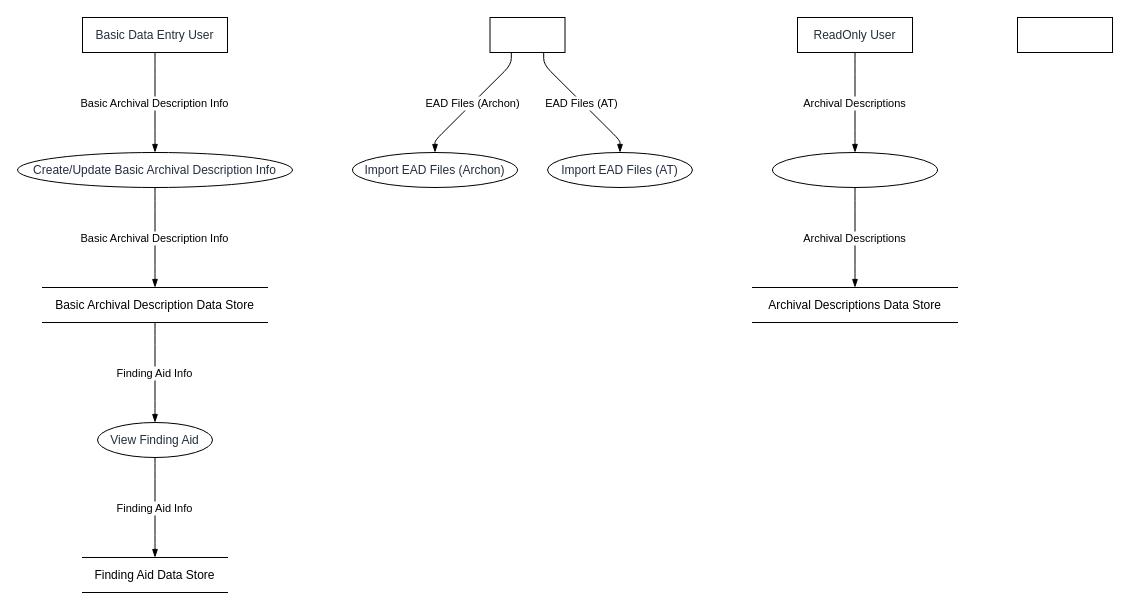
Some shapes in this 1130 by 610 pixel diagram are drawn without their labels. Here are the shapes that lost their labels. From the top down, the centre of each, then its label:
At (527,34): "Archivist".
At (1064,34): "Researcher".
At (855,170): "View Archival Descriptions".
